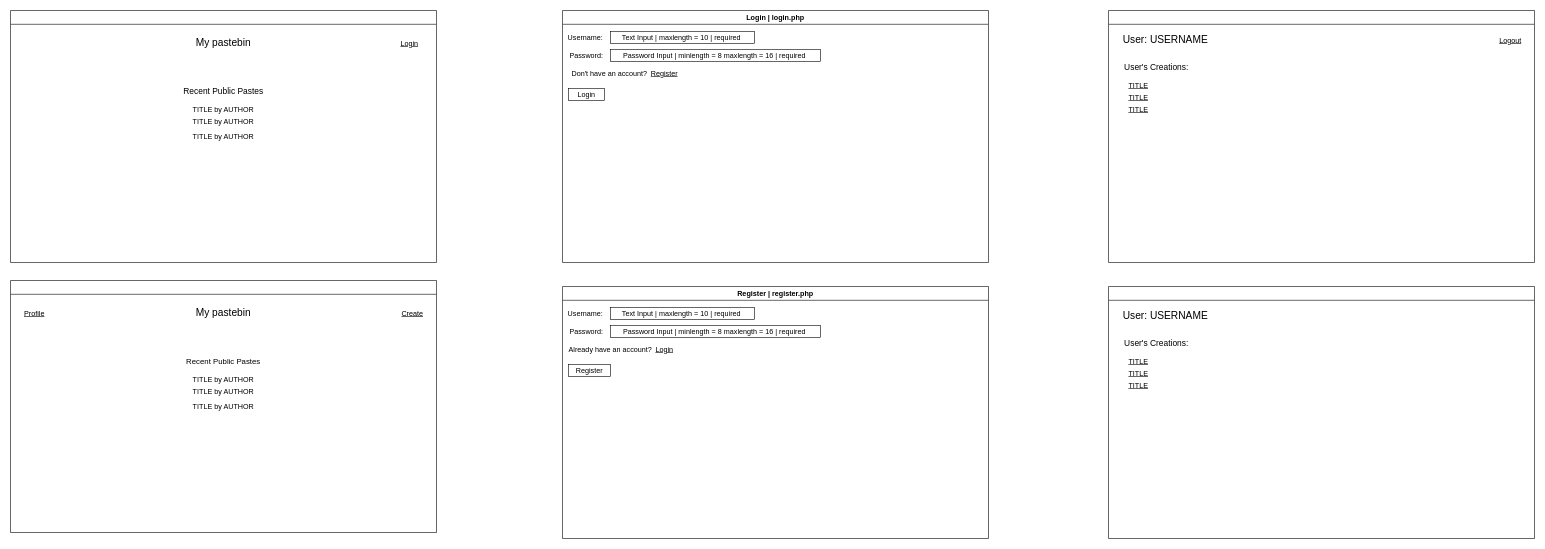
The diagram is 1545 pixels wide and 549 high, and some of its shapes have lost their labels. The shapes that lost their labels are listed below. From the top down, each one's box as (x1, y1, x2, y2) in pixels, then its label:
(10, 10, 436, 262): Home | index.php | Not logged in
(1108, 10, 1534, 262): User Profile | profile.php | own profile
(10, 280, 436, 532): Home | index.php | Logged in
(1108, 286, 1534, 538): User Profile | profile.php
